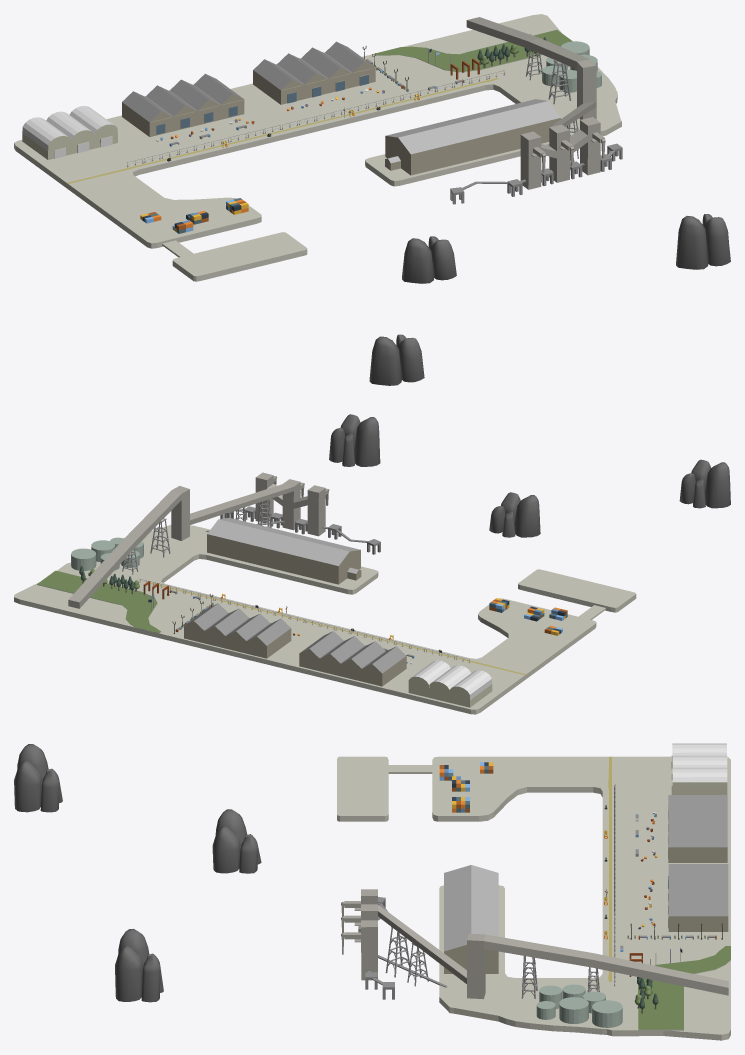
Rendered from mapa.fbx.
The picture shows the model from 3 angles, top to bottom: view 1: azimuth 30°, elevation 25°; view 2: azimuth 150°, elevation 25°; view 3: azimuth 270°, elevation 25°; orthographic projection. The views are drawn at different scales.
Parts seen in each view (by area): view 1: superficie, galponesdobles, galpongigante, piedras, torresdedescarga, galponredondeado, bancosdeagua, cilindros, containers, baranda, estructuras; view 2: superficie, galponesdobles, torresdedescarga, piedras, galpongigante, galponredondeado, cilindros, bancosdeagua, estructuras, containers, baranda; view 3: superficie, torresdedescarga, galponesdobles, piedras, galpongigante, galponredondeado, cilindros, estructuras, containers, bancosdeagua.
Part boxes in pixels (x1,y1,x2,y2): superficie: (14,14,621,281); galponesdobles: (122,41,375,136); galpongigante: (385,99,560,175); piedras: (369,214,730,385); torresdedescarga: (466,17,605,189); galponredondeado: (22,106,117,159); bancosdeagua: (450,143,622,204); cilindros: (542,41,601,92); containers: (140,198,248,233); baranda: (127,70,504,167); estructuras: (526,49,579,170); superficie: (14,525,636,714); galponesdobles: (184,603,406,686); torresdedescarga: (68,472,329,608); piedras: (329,414,730,537); galpongigante: (207,517,361,584); galponredondeado: (408,660,492,707); cilindros: (71,537,143,570); bancosdeagua: (206,506,380,554); estructuras: (122,499,271,574); containers: (489,598,567,635); baranda: (139,578,469,662); superficie: (337,756,730,1040); torresdedescarga: (341,889,728,999); galponesdobles: (668,795,728,931); piedras: (14,744,261,1002); galpongigante: (444,865,498,973); galponredondeado: (671,743,727,794); cilindros: (536,984,622,1027); estructuras: (385,926,599,998); containers: (439,762,493,812); bancosdeagua: (358,897,447,999).
Bounding box in the file's own units: 17.14 × 2.19 × 18.66.
